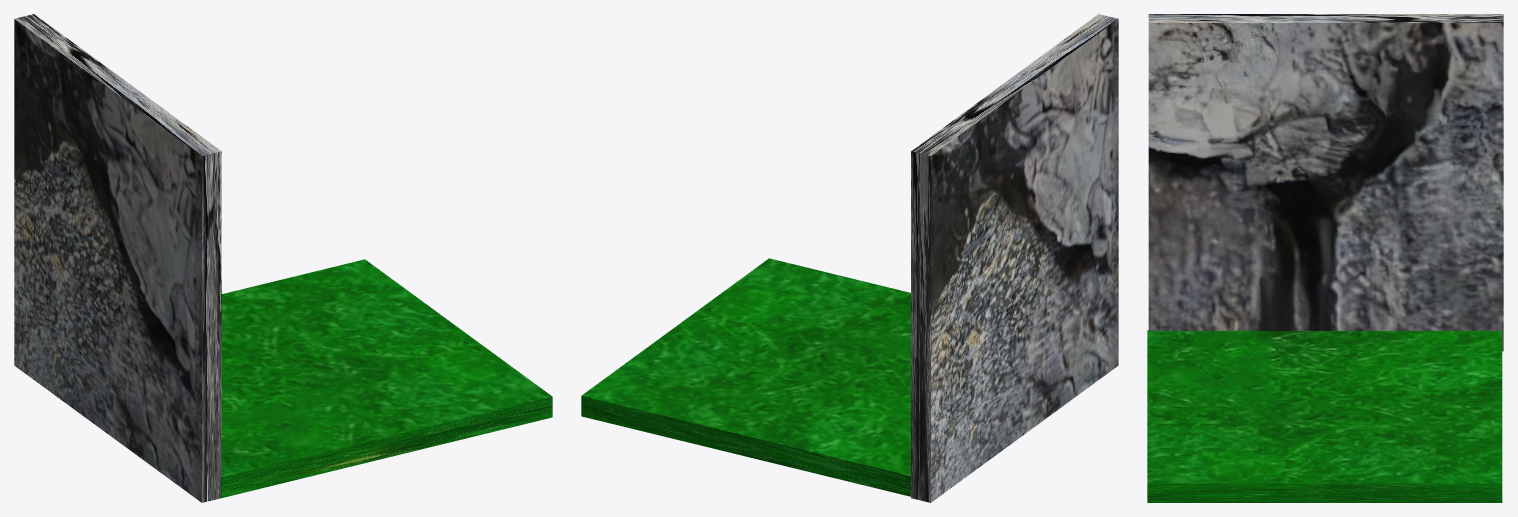
The model's file is stage.gltf.
3 renders of one model, left to right at view 1: azimuth 30°, elevation 25°; view 2: azimuth 150°, elevation 25°; view 3: azimuth 270°, elevation 25°, orthographic. The views are drawn at different scales.
Visible parts, largest first — view 1: Wall, Floor; view 2: Wall, Floor; view 3: Wall, Floor.
Boxes of the visible parts, x1=… form: Wall: x1=14, y1=14, x2=221, y2=502; Floor: x1=220, y1=259, x2=552, y2=497; Wall: x1=911, y1=14, x2=1118, y2=502; Floor: x1=581, y1=258, x2=910, y2=496; Wall: x1=1148, y1=14, x2=1503, y2=351; Floor: x1=1147, y1=330, x2=1502, y2=502.
Bounding box in the file's own units: 12.1 × 11.46 × 11.28.
Materials: 2 (2 with a texture image).
